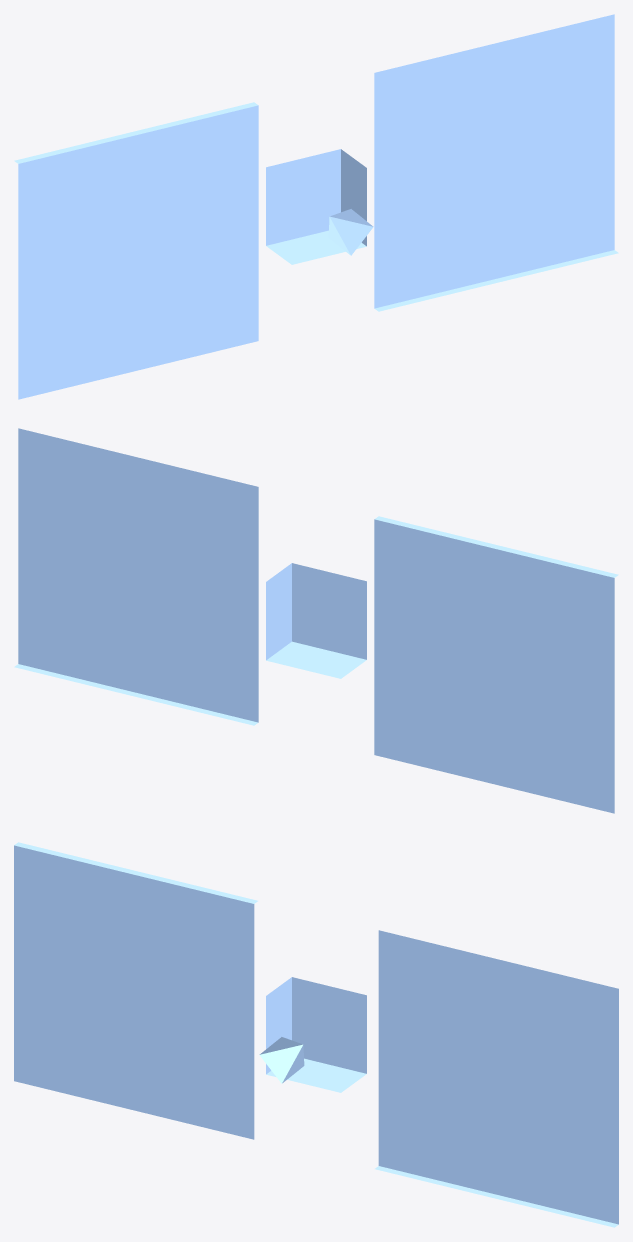
Rendered from satellite.glb.
3 views of the same model, one above another, from view 1: azimuth 30°, elevation 25°; view 2: azimuth 150°, elevation 25°; view 3: azimuth 330°, elevation 25° (orthographic).
Bounding box in the file's own units: 40000 × 15000 × 5500.
